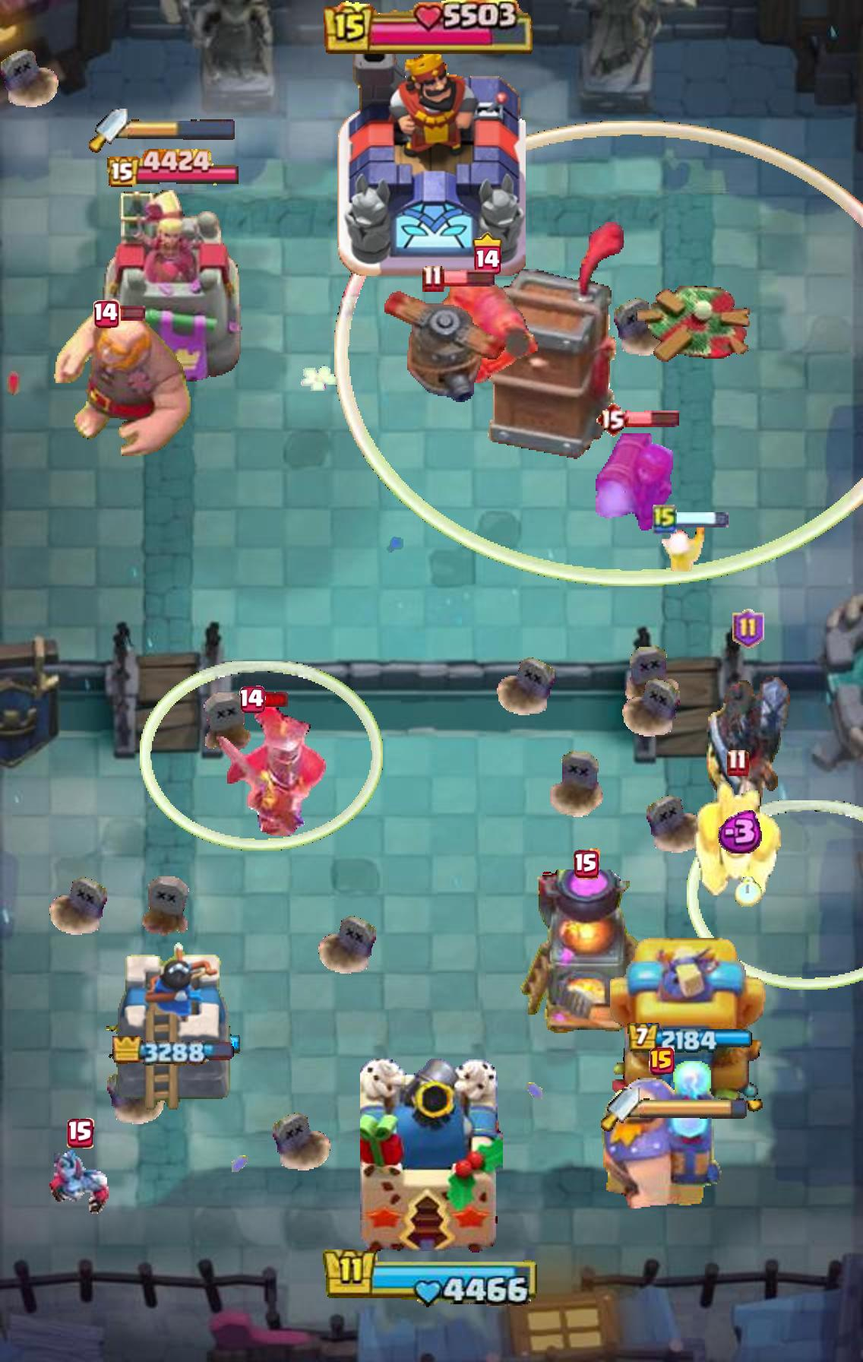elixir: (712, 810, 765, 853)
skeleton: (661, 523, 707, 572)
